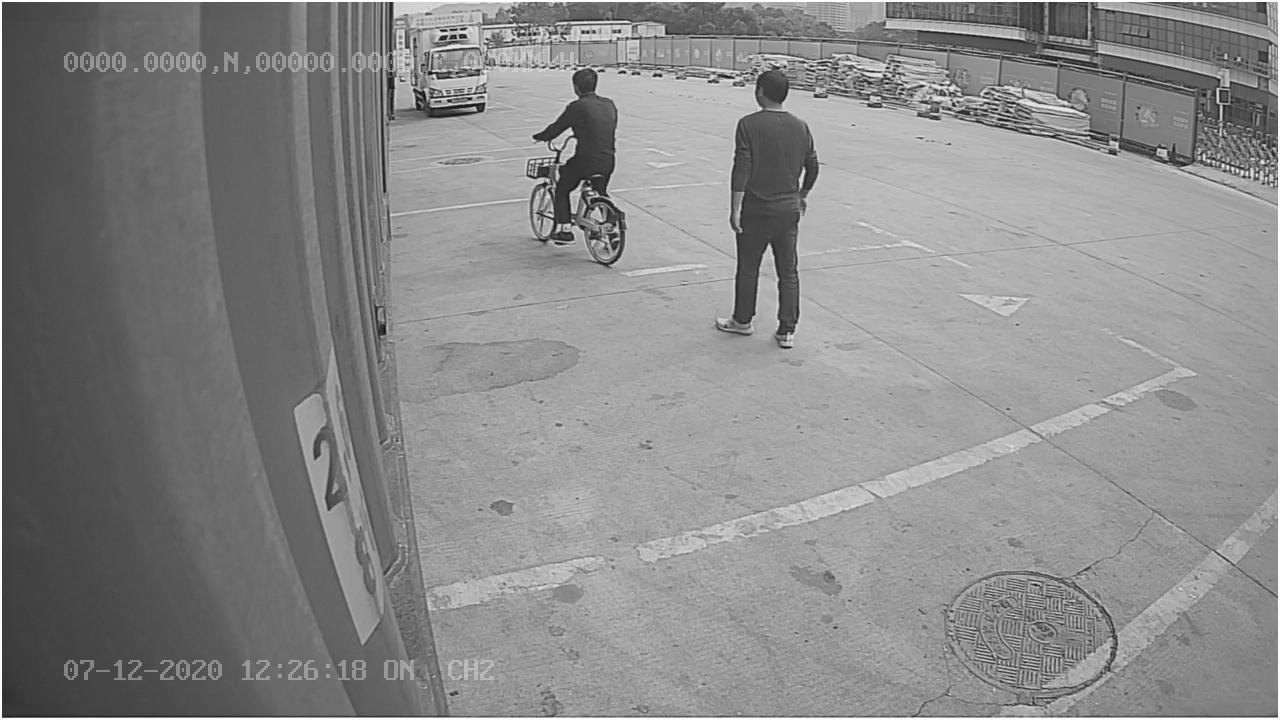person: (705, 65, 825, 351)
